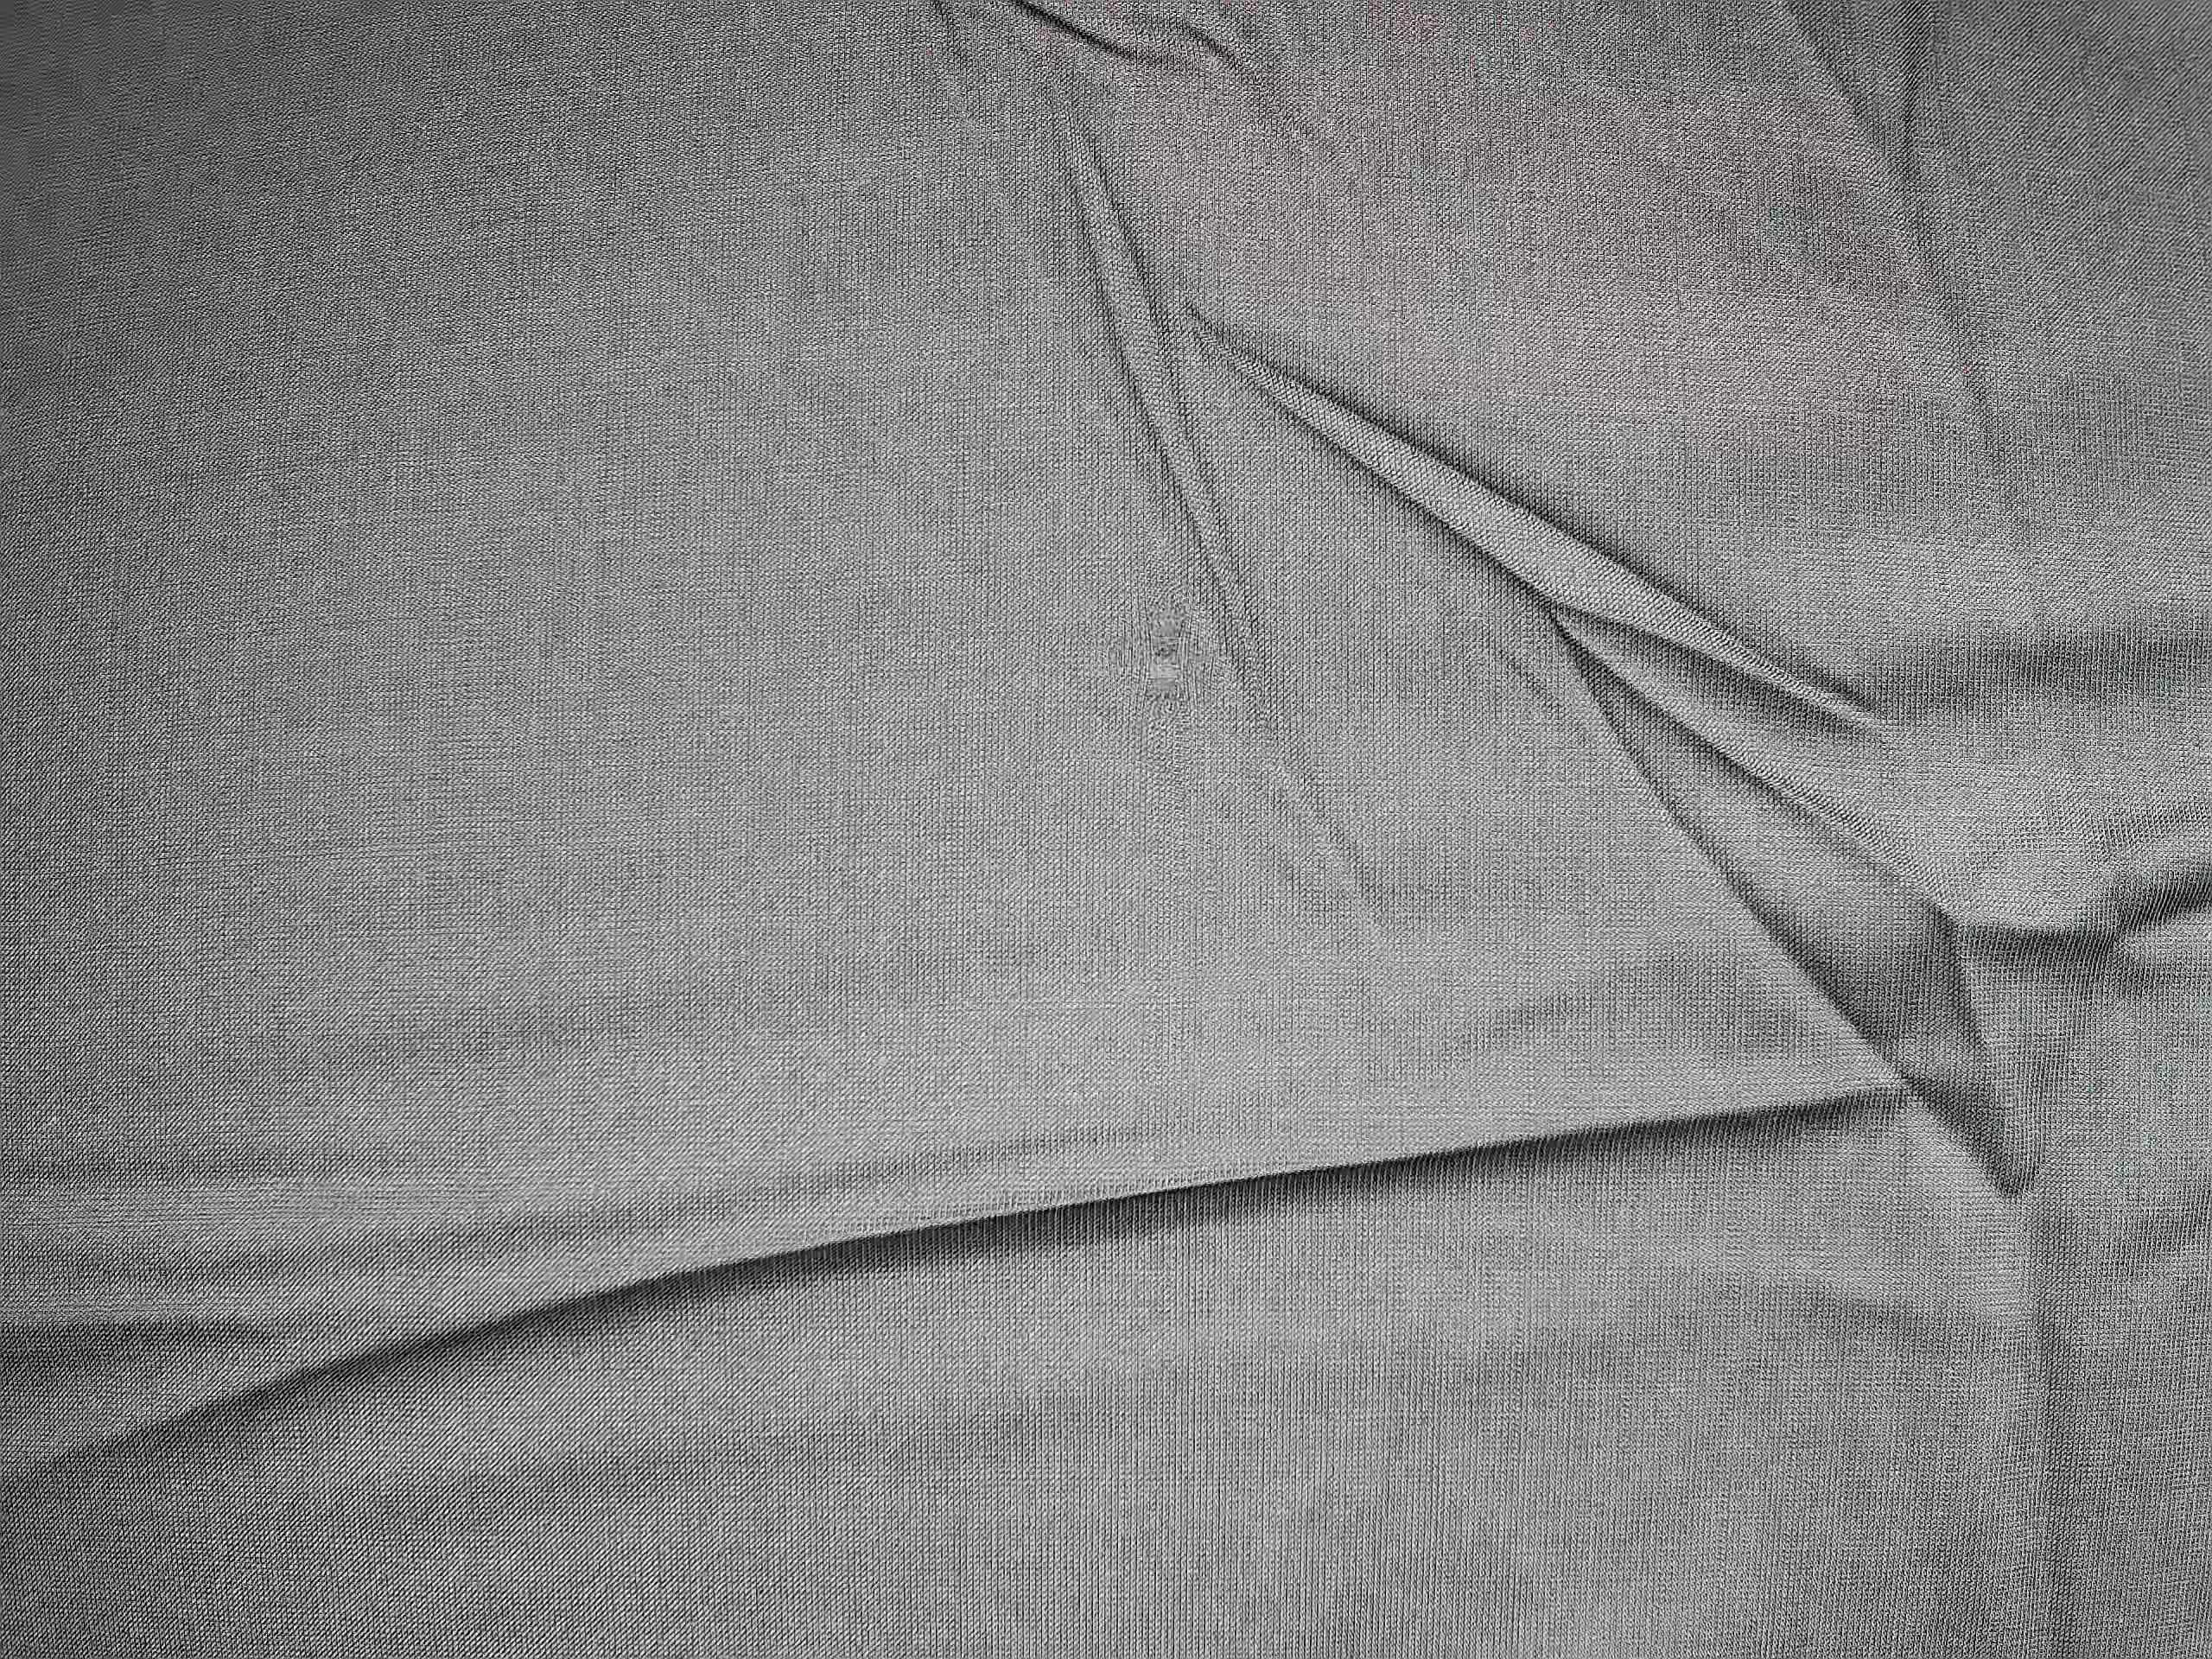brushed-hole: (1099, 582, 1254, 732)
